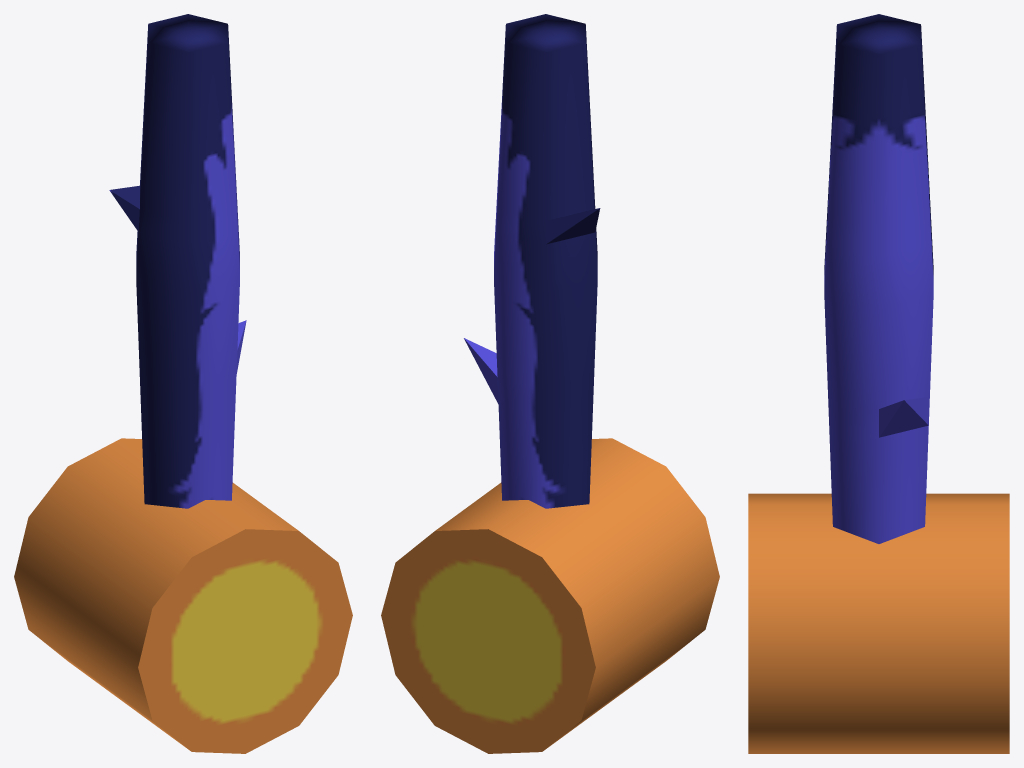
Rendered from Middle13.fbx.
The picture shows the model from 3 angles, left to right: view 1: azimuth 30°, elevation 25°; view 2: azimuth 150°, elevation 25°; view 3: azimuth 270°, elevation 25°; orthographic projection. The views are drawn at different scales.
Visible parts, largest first — view 1: Middle13; view 2: Middle13; view 3: Middle13.
Boxes of the visible parts, x1,y1,x2,y2 form: Middle13: [14, 14, 352, 753]; Middle13: [381, 14, 719, 753]; Middle13: [748, 14, 1009, 753].
Bounding box in the file's own units: 0.9796 × 2.94 × 0.9796.
1 material, 1 textured.
